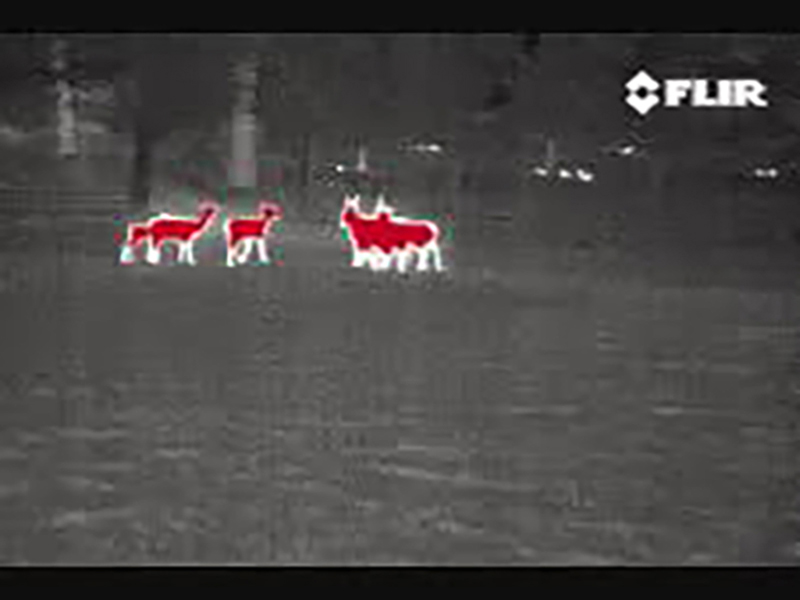cervo: (329, 197, 450, 284), (130, 197, 220, 265), (221, 200, 291, 272)
